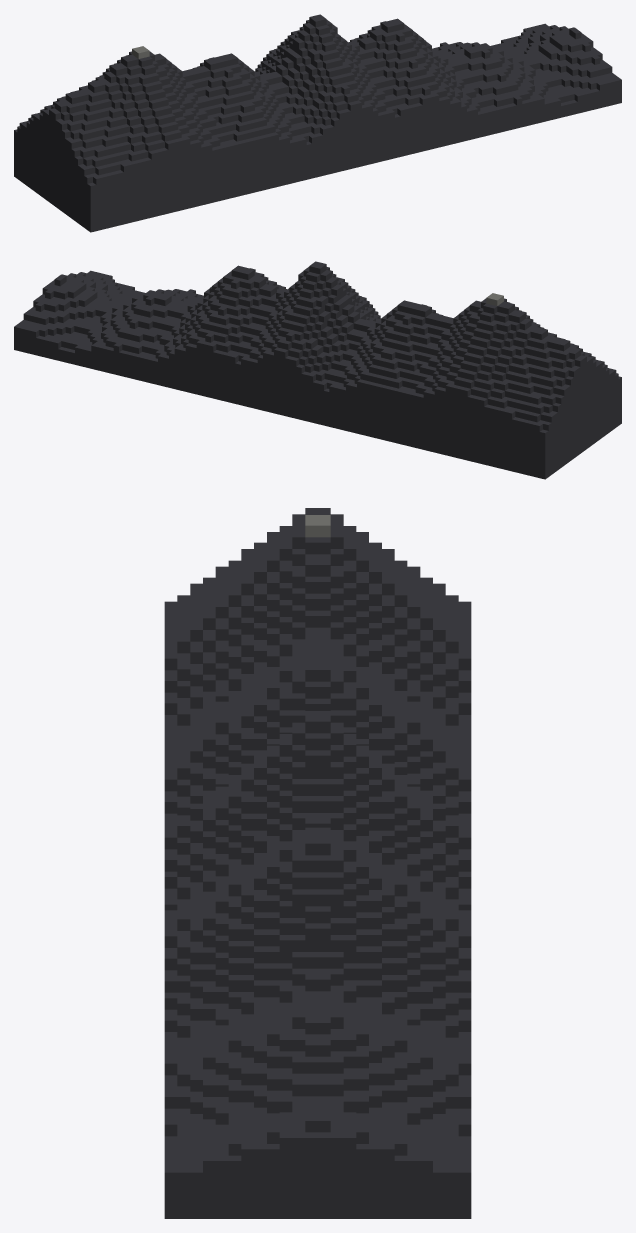
Rendered from ridge_volcanic_b.obj.
3 renders of one model, top to bottom at view 1: azimuth 30°, elevation 25°; view 2: azimuth 150°, elevation 25°; view 3: azimuth 270°, elevation 25°, orthographic. The views are drawn at different scales.
Bounding box in the file's own units: 9.6 × 2.3 × 2.4.
Materials: 1 (1 with a texture image).
